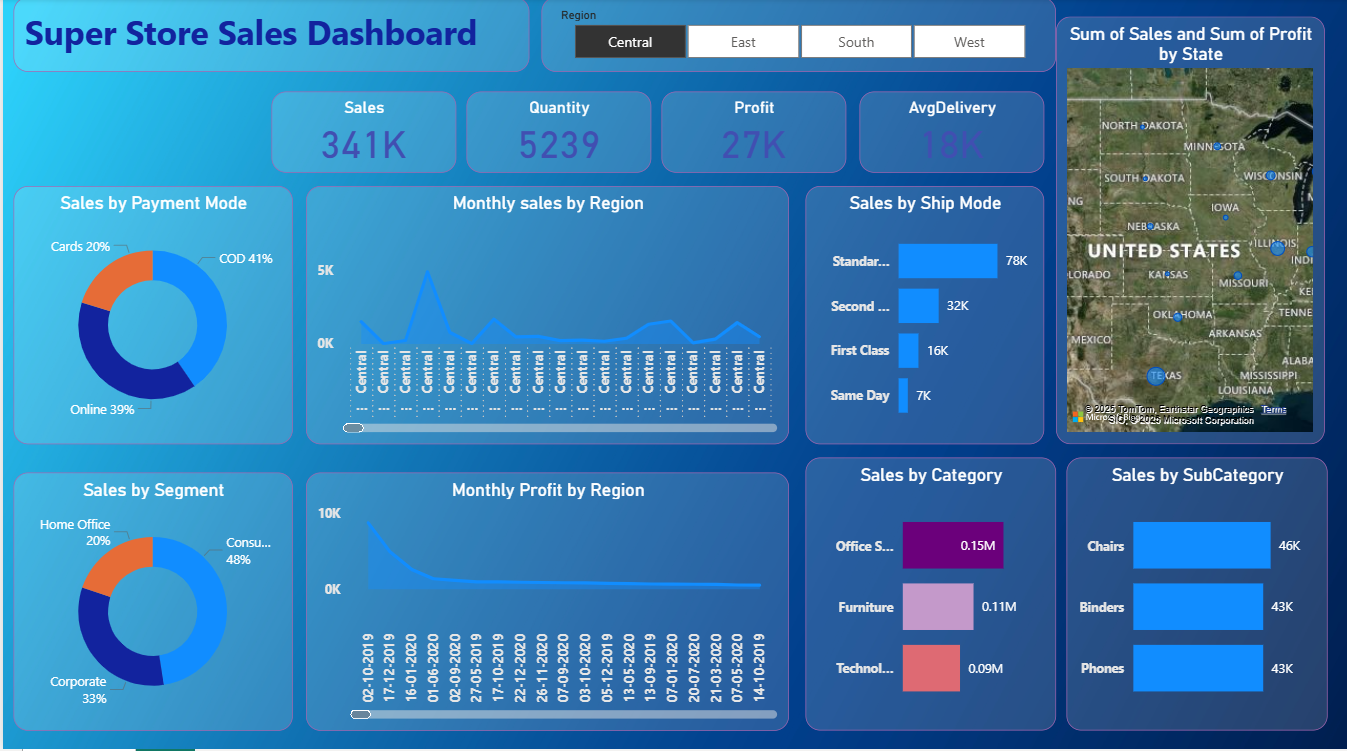

The dashboard page shown, as its layout file describes it:
{"tool":"powerbi","page":{"name":"Page 1","canvas":[1280,720],"ordinal":0},"visuals":[{"type":"clusteredBarChart","title":" Sales by SubCategory","fields":{"Category":["SuperStore_Sales_Dataset.Sub-Category"],"Y":["Sum(SuperStore_Sales_Dataset.Sales)"]},"box":[1012.9,438.6,248.6,260],"z":0},{"type":"clusteredBarChart","title":" Sales by Category","fields":{"Category":["SuperStore_Sales_Dataset.Category"],"Y":["Sum(SuperStore_Sales_Dataset.Sales)"]},"box":[764.3,438.6,238.6,260],"z":1000},{"type":"clusteredBarChart","title":" Sales by Ship Mode","fields":{"Category":["SuperStore_Sales_Dataset.Ship Mode"],"Y":["Sum(SuperStore_Sales_Dataset.Sales)"]},"box":[764.3,180,227.1,245.7],"z":2000},{"type":"stackedAreaChart","title":"Monthly sales by Region","fields":{"Y":["Sum(SuperStore_Sales_Dataset.Sales)"],"Category":["SuperStore_Sales_Dataset.Order Date","SuperStore_Sales_Dataset.Region"]},"box":[288.6,180,460,245.7],"z":3000},{"type":"map","fields":{"Category":["SuperStore_Sales_Dataset.State"],"Size":["Sum(SuperStore_Sales_Dataset.Sales)"]},"box":[1002.9,18.6,255.7,407.1],"z":4000},{"type":"donutChart","title":" Sales by Segment","fields":{"Category":["SuperStore_Sales_Dataset.Segment"],"Y":["Sum(SuperStore_Sales_Dataset.Sales)"]},"box":[10,452.9,265.7,245.7],"z":5000},{"type":"donutChart","title":" Sales by Payment Mode","fields":{"Category":["SuperStore_Sales_Dataset.Payment Mode"],"Y":["Sum(SuperStore_Sales_Dataset.Sales)"]},"box":[10,180,265.7,245.7],"z":6000},{"type":"slicer","fields":{"Values":["SuperStore_Sales_Dataset.Region"]},"box":[512.9,0,490,71.4],"z":7000},{"type":"stackedAreaChart","title":"Monthly Profit by Region","fields":{"Y":["Sum(SuperStore_Sales_Dataset.Profit)"],"Category":["SuperStore_Sales_Dataset.Order Date"]},"box":[288.6,452.9,460,245.7],"z":8000},{"type":"textbox","box":[10,0,491.4,71.4],"z":9000},{"type":"card","title":"Sales","fields":{"Values":["Sum(SuperStore_Sales_Dataset.Sales)"]},"box":[255.7,90,175.7,77.1],"z":10000},{"type":"card","title":"Quantity","fields":{"Values":["Sum(SuperStore_Sales_Dataset.Quantity)"]},"box":[441.4,90,175.7,77.1],"z":11000},{"type":"card","title":"Profit","fields":{"Values":["Sum(SuperStore_Sales_Dataset.Profit)"]},"box":[627.1,90,175.7,77.1],"z":12000},{"type":"card","title":"AvgDelivery","fields":{"Values":["Sum(SuperStore_Sales_Dataset.AvgDelivery)"]},"box":[815.7,90,175.7,77.1],"z":13000}]}

Visuals, with their boxes in screenshot pixels (x1, y1, x2, y2), scaled from the page's 1280x720 canvas onto the 1347x751 screenshot:
" Sales by SubCategory" clusteredBarChart: box=[1066, 457, 1328, 729]
" Sales by Category" clusteredBarChart: box=[804, 457, 1055, 729]
" Sales by Ship Mode" clusteredBarChart: box=[804, 188, 1043, 444]
"Monthly sales by Region" stackedAreaChart: box=[304, 188, 788, 444]
map - SuperStore_Sales_Dataset.State x Sum(SuperStore_Sales_Dataset.Sales): box=[1055, 19, 1324, 444]
" Sales by Segment" donutChart: box=[11, 472, 290, 729]
" Sales by Payment Mode" donutChart: box=[11, 188, 290, 444]
slicer - SuperStore_Sales_Dataset.Region: box=[540, 0, 1055, 74]
"Monthly Profit by Region" stackedAreaChart: box=[304, 472, 788, 729]
textbox: box=[11, 0, 528, 74]
"Sales" card: box=[269, 94, 454, 174]
"Quantity" card: box=[465, 94, 649, 174]
"Profit" card: box=[660, 94, 845, 174]
"AvgDelivery" card: box=[858, 94, 1043, 174]
